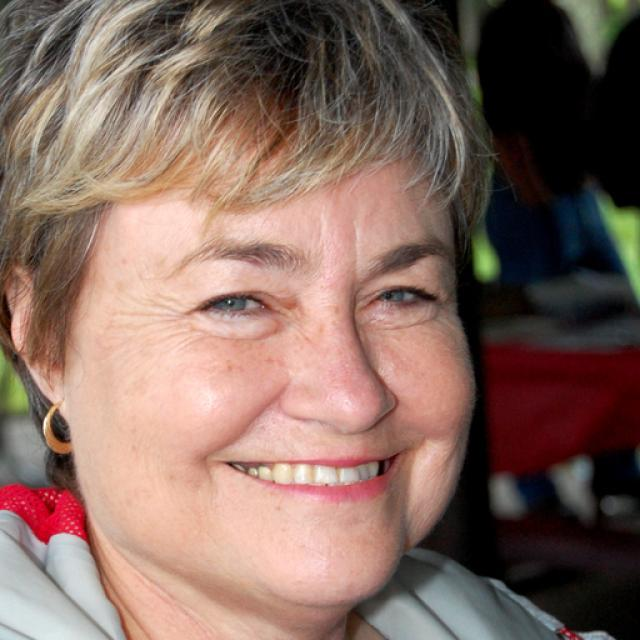happy: (70, 90, 479, 612)
